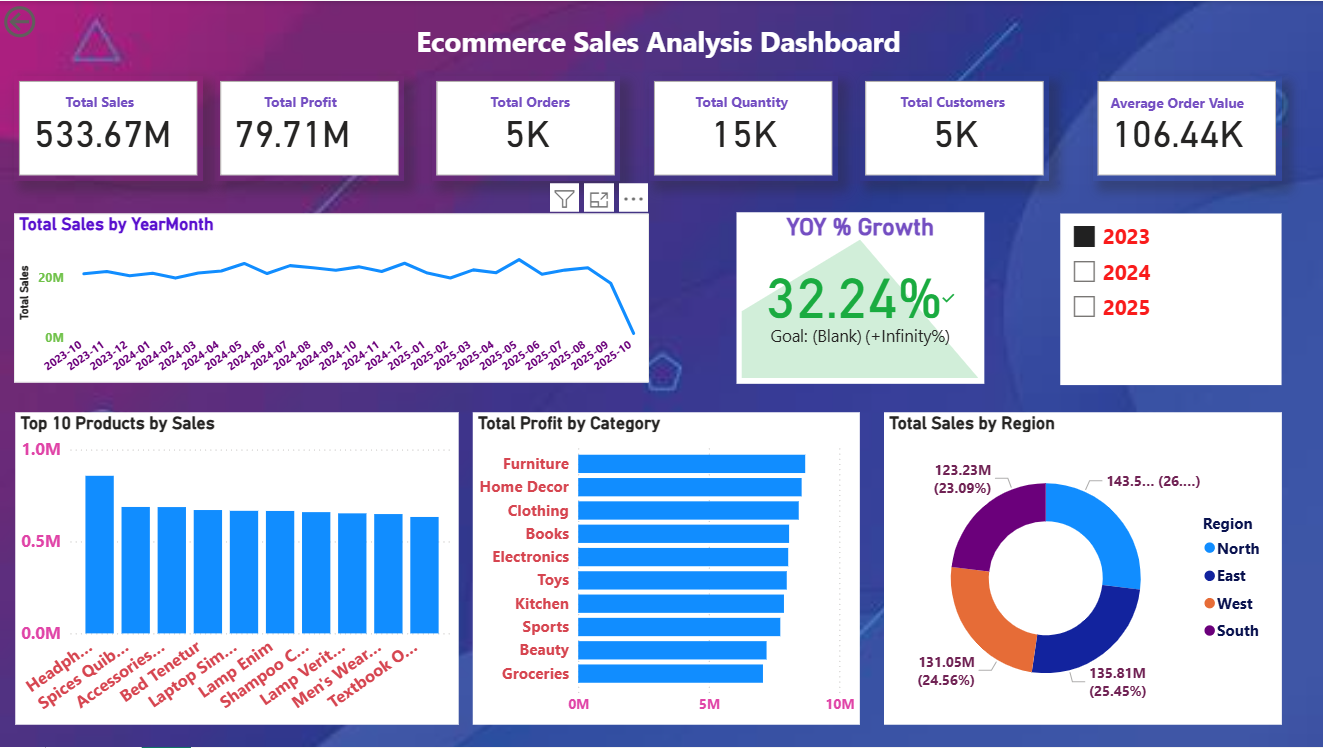

What the dashboard file says about the page in this screenshot:
{"tool":"powerbi","page":{"name":"Page 1","canvas":[1280,720],"ordinal":0},"visuals":[{"type":"cardVisual","fields":{"Data":["Ecommerce_Sales_Data.Total Sales"]},"box":[15.1,72.6,182.1,101.3],"z":0},{"type":"cardVisual","fields":{"Data":["Ecommerce_Sales_Data.Total Profit"]},"box":[208.1,72.6,182.1,101.3],"z":1000},{"type":"cardVisual","fields":{"Data":["Ecommerce_Sales_Data.Total Orders"]},"box":[417.6,72.6,182.1,101.3],"z":2000},{"type":"cardVisual","fields":{"Data":["Ecommerce_Sales_Data.Total Quantity"]},"box":[627.1,72.6,182.1,101.3],"z":3000},{"type":"cardVisual","fields":{"Data":["Ecommerce_Sales_Data.Total Customers"]},"box":[831.2,72.6,182.1,101.3],"z":4000},{"type":"cardVisual","fields":{"Data":["Ecommerce_Sales_Data.AOV"]},"box":[1055.6,72.4,182.2,101.3],"z":5000},{"type":"textbox","box":[58.9,83.5,83.5,27.4],"z":6000},{"type":"textbox","box":[250.6,83.5,97.2,27.4],"z":7000},{"type":"textbox","box":[469.7,83.5,95.8,27.4],"z":8000},{"type":"textbox","box":[666.8,83.5,104.1,27.4],"z":9000},{"type":"textbox","box":[865.4,83.5,116.4,27.4],"z":10000},{"type":"textbox","box":[1067.7,84.5,159.3,27.7],"z":11000},{"type":"lineChart","fields":{"Y":["Ecommerce_Sales_Data.Total Sales"],"Category":["DateTable.YearMonth"]},"box":[14.5,205.1,652.7,162.9],"z":12000},{"type":"clusteredColumnChart","title":"Top 10 Products by Sales","fields":{"Category":["Ecommerce_Sales_Data.Product Name"],"Y":["Ecommerce_Sales_Data.Total Sales"]},"box":[15.7,396.9,428.3,301.6],"z":13000},{"type":"donutChart","fields":{"Category":["Ecommerce_Sales_Data.Region"],"Y":["Ecommerce_Sales_Data.Total Sales"]},"box":[854.2,396.9,383.6,301.6],"z":14000},{"type":"textbox","box":[371.9,15.1,529.7,49.4],"z":15000},{"type":"barChart","title":"Total Profit by Category","fields":{"Category":["Ecommerce_Sales_Data.Category"],"Y":["Ecommerce_Sales_Data.Total Profit"]},"box":[457.2,396.9,374,301.6],"z":16000},{"type":"actionButton","box":[0,0,100,40],"z":17000},{"type":"slicer","fields":{"Values":["DateTable.Year"]},"box":[1005,202.7,213.5,165.3],"z":18000},{"type":"kpi","title":"YOY % Growth","fields":{"TrendLine":["DateTable.YearMonth"],"Indicator":["Ecommerce_Sales_Data.Total Sales"],"Goal":["Ecommerce_Sales_Data.Sales Previous Year"]},"box":[719,202.7,238.9,165.3],"z":19000}]}

Visuals, with their boxes in screenshot pixels (x1, y1, x2, y2), scaled from the page's 1280x720 canvas onto the 1323x748 screenshot:
cardVisual - Ecommerce_Sales_Data.Total Sales: bbox=(16, 75, 204, 181)
cardVisual - Ecommerce_Sales_Data.Total Profit: bbox=(215, 75, 403, 181)
cardVisual - Ecommerce_Sales_Data.Total Orders: bbox=(432, 75, 620, 181)
cardVisual - Ecommerce_Sales_Data.Total Quantity: bbox=(648, 75, 836, 181)
cardVisual - Ecommerce_Sales_Data.Total Customers: bbox=(859, 75, 1047, 181)
cardVisual - Ecommerce_Sales_Data.AOV: bbox=(1091, 75, 1279, 180)
textbox: bbox=(61, 87, 147, 115)
textbox: bbox=(259, 87, 359, 115)
textbox: bbox=(485, 87, 584, 115)
textbox: bbox=(689, 87, 797, 115)
textbox: bbox=(894, 87, 1015, 115)
textbox: bbox=(1104, 88, 1268, 117)
lineChart - Ecommerce_Sales_Data.Total Sales x DateTable.YearMonth: bbox=(15, 213, 690, 382)
"Top 10 Products by Sales" clusteredColumnChart: bbox=(16, 412, 459, 726)
donutChart - Ecommerce_Sales_Data.Region x Ecommerce_Sales_Data.Total Sales: bbox=(883, 412, 1279, 726)
textbox: bbox=(384, 16, 932, 67)
"Total Profit by Category" barChart: bbox=(473, 412, 859, 726)
actionButton: bbox=(0, 0, 103, 42)
slicer - DateTable.Year: bbox=(1039, 211, 1259, 382)
"YOY % Growth" kpi: bbox=(743, 211, 990, 382)
